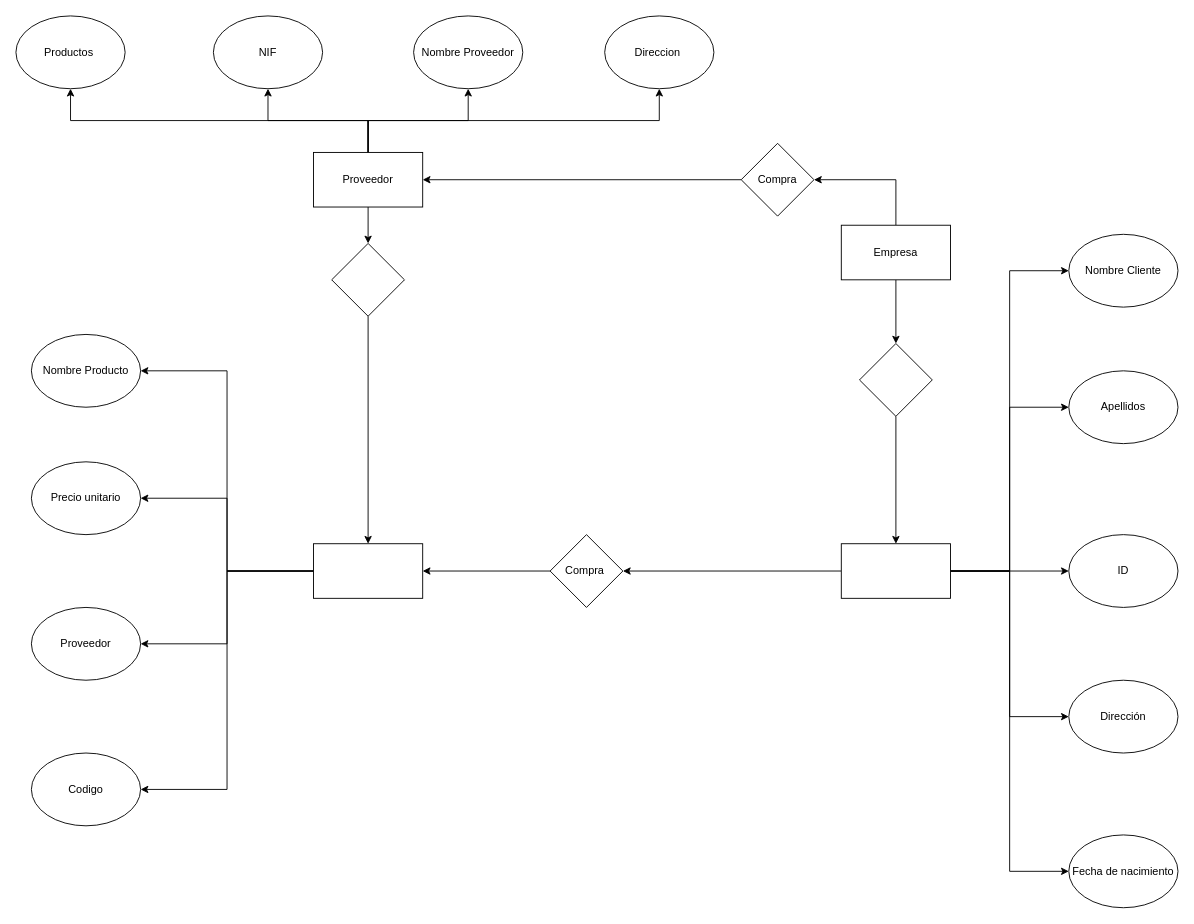
Image size: 1194x924. Some labels were removed from this diagram. Each missing label, with the centre of its shape:
Cliente: point 895,570
Ofrece: point 367,279
Pruducto: point 368,570
Vende: point 895,379
